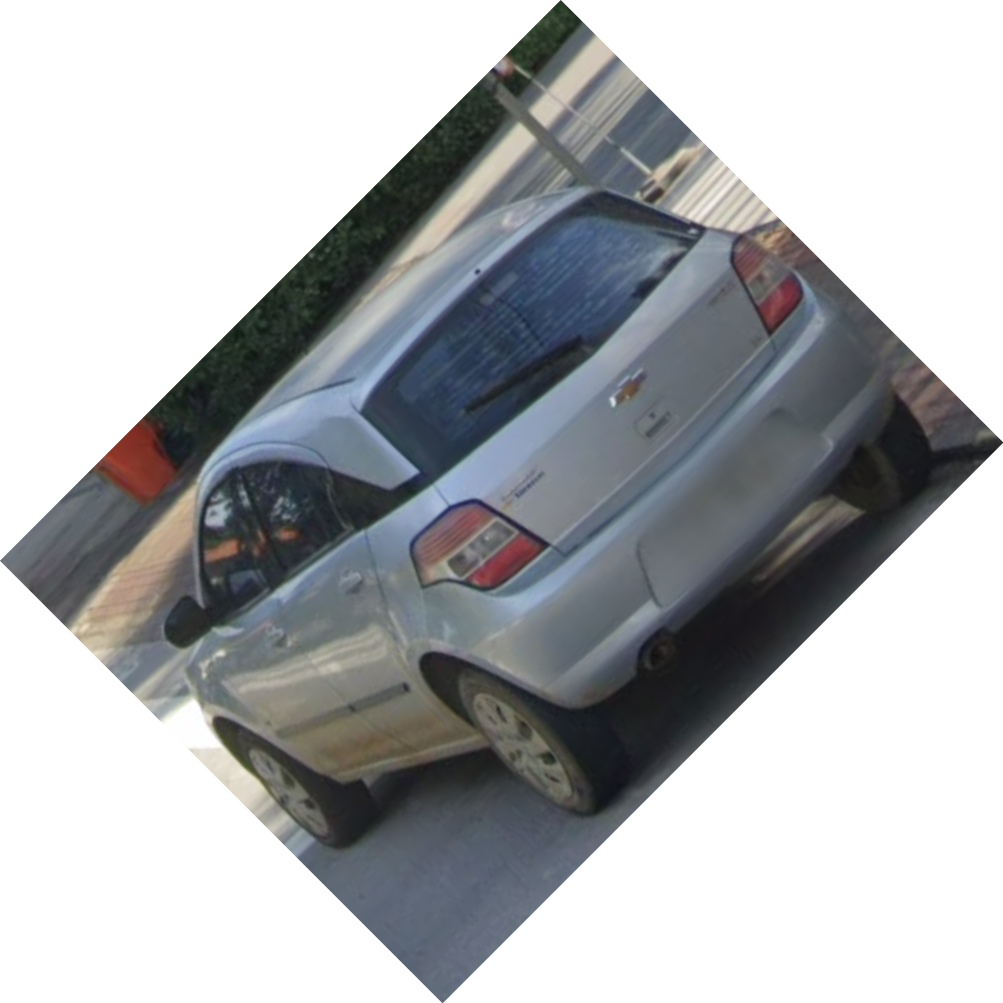car: (175, 179, 941, 846)
